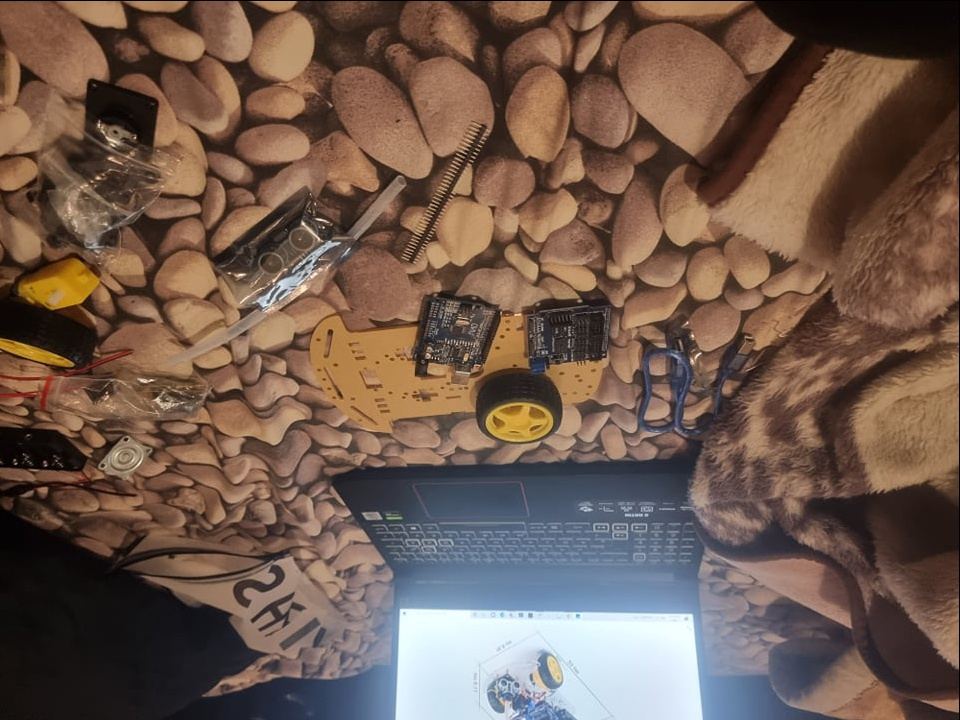5V EXPANSION: (525, 298, 613, 374)
BATTERY BOX: (1, 428, 86, 474)
SENSOR: (259, 215, 320, 278), (499, 677, 523, 692)
UNO R3: (416, 294, 503, 385)
